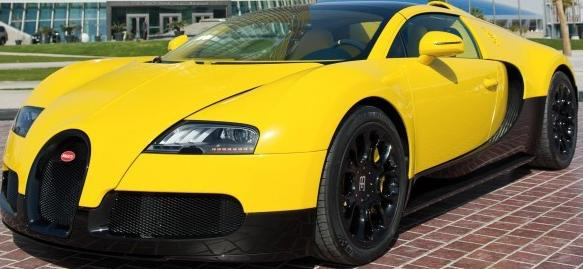front_view: (1, 91, 298, 264)
headlight: (138, 110, 264, 165)
side_glass: (386, 12, 486, 60)
